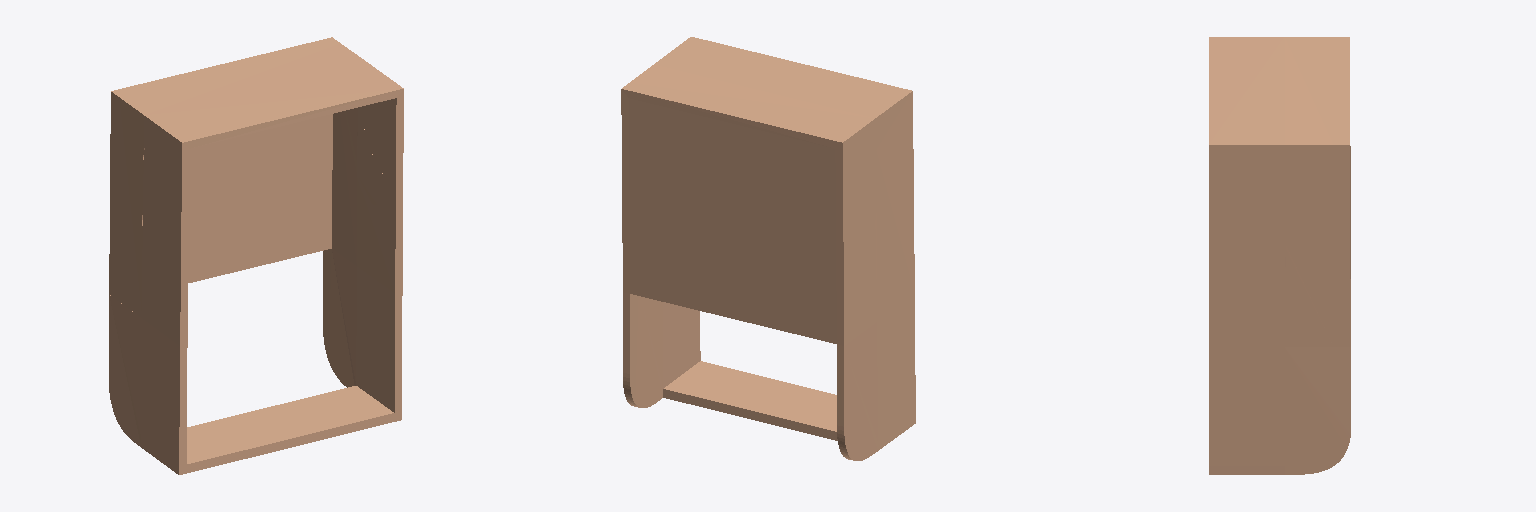
File: EspHolder.obj
The picture shows the model from 3 angles: view 1: azimuth 30°, elevation 25°; view 2: azimuth 150°, elevation 25°; view 3: azimuth 270°, elevation 25°; orthographic projection.
Visible parts, largest first — view 1: Object003; view 2: Object003; view 3: Object003.
Boxes of the visible parts, x1=… form: Object003: x1=109, y1=37, x2=403, y2=474; Object003: x1=621, y1=37, x2=915, y2=460; Object003: x1=1209, y1=37, x2=1350, y2=474.
Size of the model in its own units: 30.45 by 43 by 16.71.